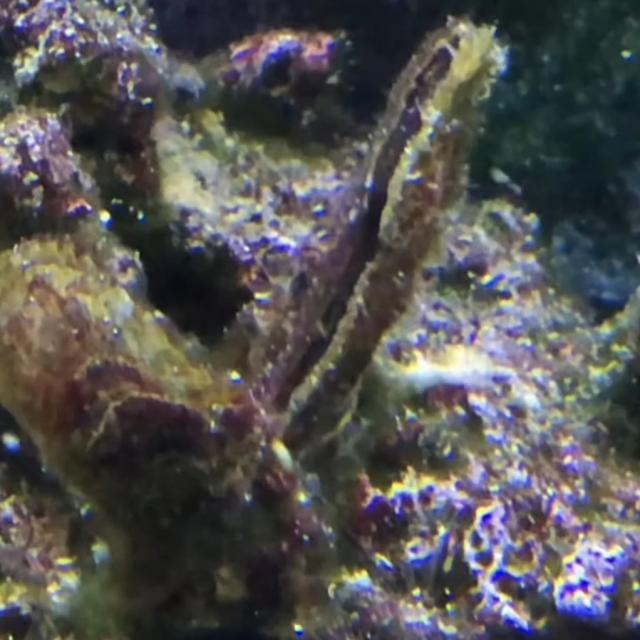Oyster-Closed: (217, 17, 508, 462)
Oyster-Indeterminate: (0, 239, 306, 601)
